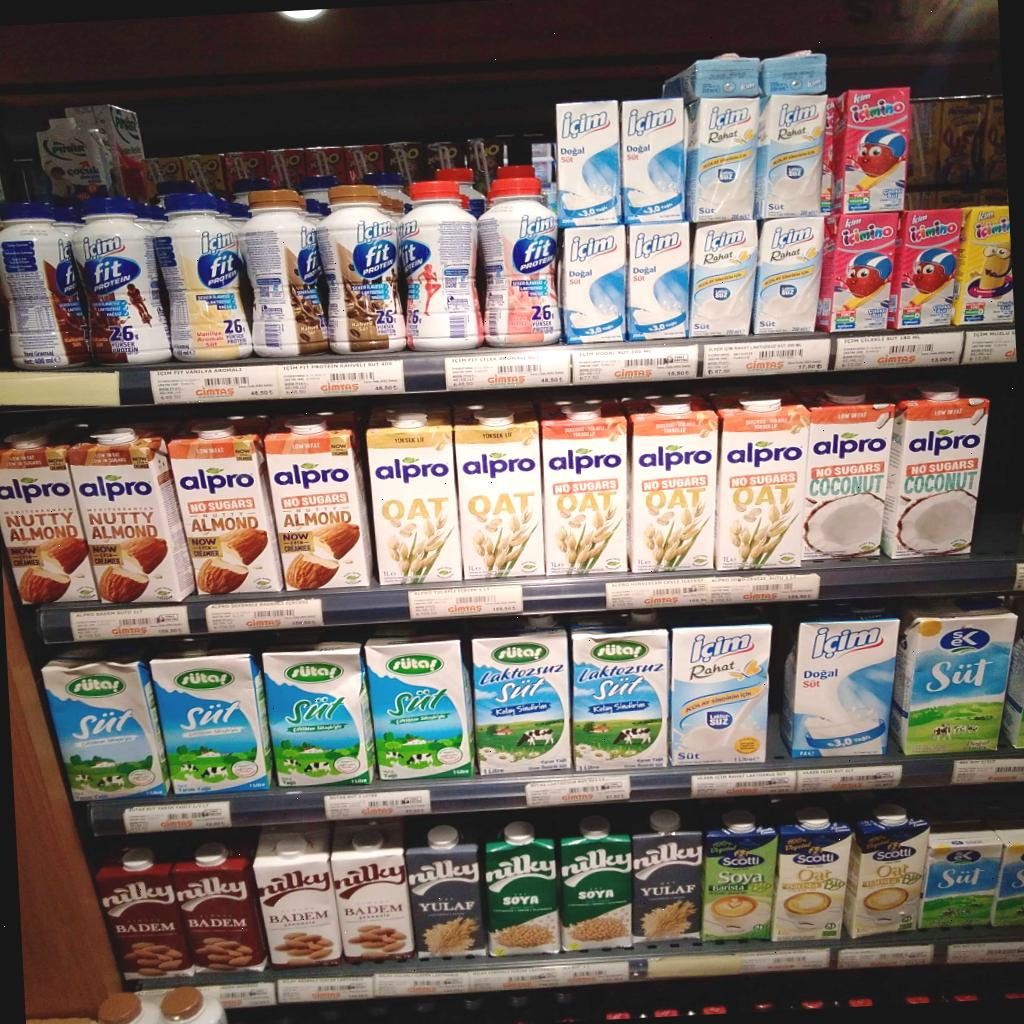price_tag: (150, 364, 281, 404), (444, 349, 570, 390), (573, 342, 698, 383), (835, 330, 963, 370), (703, 337, 831, 377), (279, 359, 405, 398), (70, 605, 190, 641), (408, 583, 523, 619), (206, 598, 324, 633), (123, 801, 230, 834), (606, 576, 709, 610), (709, 574, 820, 605), (524, 776, 631, 807), (325, 790, 431, 821), (646, 948, 740, 979), (690, 771, 797, 798), (797, 765, 902, 792), (277, 975, 374, 1004), (374, 972, 470, 997), (837, 945, 933, 969), (470, 967, 557, 992), (199, 981, 276, 1009), (741, 949, 830, 973), (550, 961, 630, 986), (963, 328, 1016, 364), (952, 759, 1023, 784), (946, 941, 1023, 964), (138, 987, 174, 1006), (1013, 563, 1023, 592)
product: (69, 428, 194, 603), (169, 420, 284, 595), (891, 598, 1017, 755), (42, 650, 170, 801), (266, 415, 374, 592), (881, 385, 988, 558), (151, 649, 272, 795), (781, 609, 899, 758), (0, 431, 99, 604), (365, 409, 462, 585), (713, 394, 810, 569), (72, 197, 171, 366), (626, 395, 719, 573), (156, 193, 252, 363), (262, 642, 374, 787), (454, 404, 545, 579), (801, 388, 894, 559), (365, 635, 474, 780), (540, 402, 628, 575), (472, 624, 571, 776), (670, 618, 772, 765), (0, 203, 89, 371), (318, 185, 406, 354), (571, 622, 669, 771), (399, 180, 482, 351), (244, 189, 328, 357), (478, 177, 561, 346), (95, 848, 194, 980), (173, 841, 268, 973), (254, 826, 341, 968), (331, 821, 414, 962), (845, 803, 929, 937), (406, 824, 487, 956), (773, 806, 852, 940), (701, 810, 778, 941), (485, 822, 560, 956), (559, 816, 632, 951), (832, 88, 910, 214), (817, 213, 899, 331), (685, 98, 760, 223), (632, 810, 702, 942), (754, 95, 827, 219), (887, 209, 962, 327), (555, 100, 622, 227), (752, 218, 825, 333), (620, 98, 685, 224), (920, 830, 1003, 928), (559, 225, 627, 344), (688, 220, 757, 336), (952, 206, 1014, 325), (627, 223, 690, 340), (990, 829, 1024, 927)
